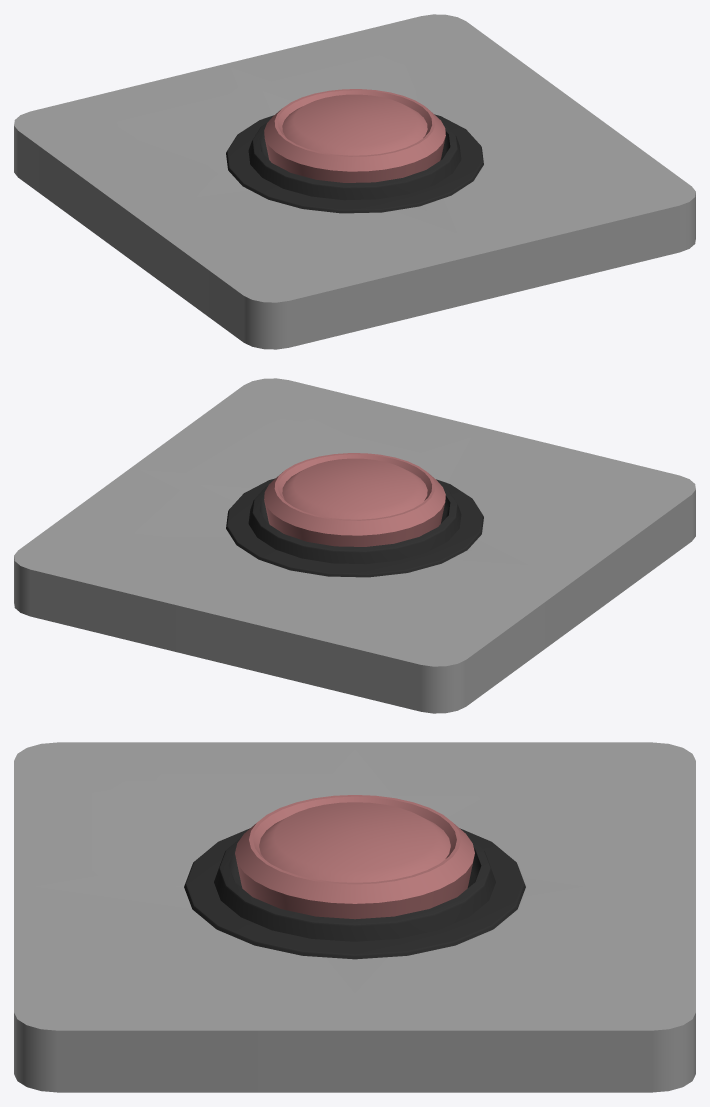
File: Button Visuals.fbx
3 views of the same model, one above another, from view 1: azimuth 30°, elevation 25°; view 2: azimuth 150°, elevation 25°; view 3: azimuth 270°, elevation 25° (orthographic). The views are drawn at different scales.
Parts seen in each view (by area): view 1: ButtonPlate, Button; view 2: ButtonPlate, Button; view 3: ButtonPlate, Button.
Part boxes in pixels (left/top/right/bottom): ButtonPlate: left=14, top=14, right=695, bottom=349; Button: left=264, top=89, right=445, bottom=182; ButtonPlate: left=14, top=378, right=695, bottom=713; Button: left=264, top=453, right=445, bottom=546; ButtonPlate: left=14, top=742, right=695, bottom=1092; Button: left=235, top=795, right=474, bottom=919.
Size of the model in its own units: 12.76 by 2.4 by 12.76.
